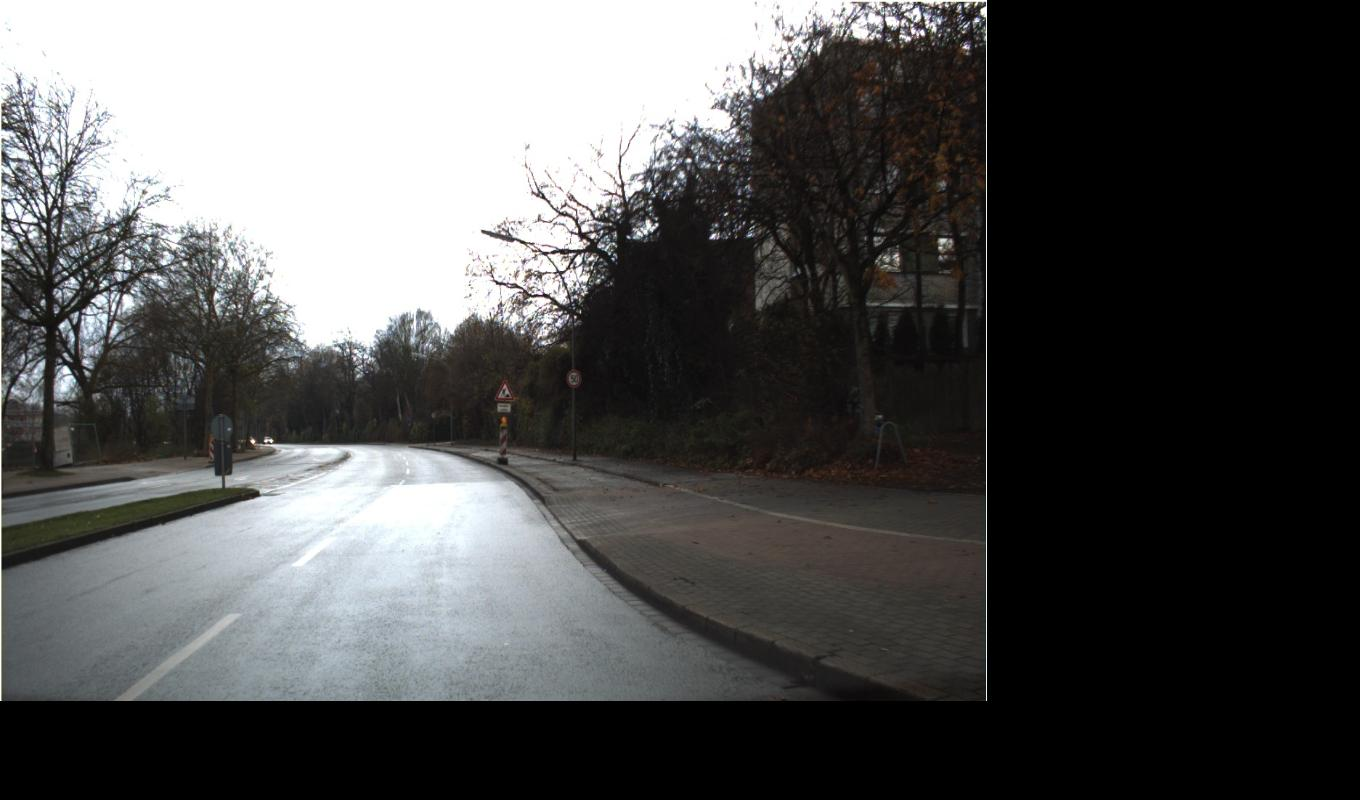construction: (494, 368, 582, 402)
